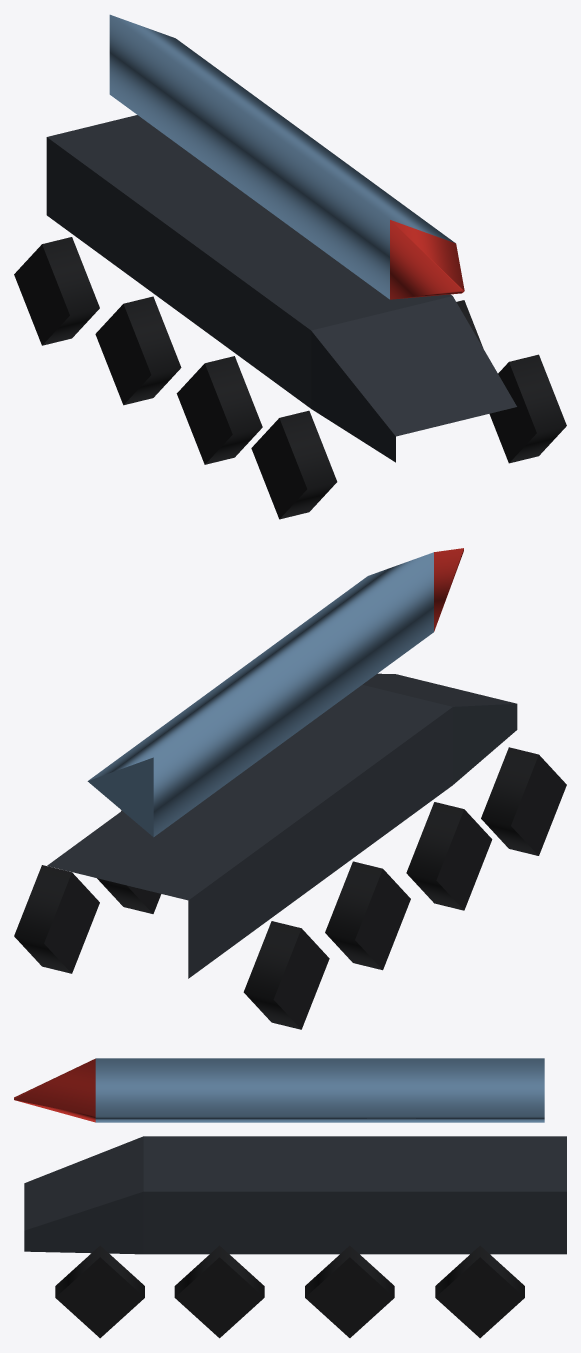
The model's file is veh_ground_missile_carrier_a09_lod2.glb.
3 views of the same model, one above another, from view 1: azimuth 30°, elevation 25°; view 2: azimuth 150°, elevation 25°; view 3: azimuth 270°, elevation 25° (orthographic). The views are drawn at different scales.
Visible parts, largest first — view 1: body, launcher, wheel_2, wheel_0, wheel_4, wheel_6, wheel_7; view 2: body, launcher, wheel_4, wheel_6, wheel_0, wheel_2, wheel_1, wheel_3; view 3: body, launcher, wheel_5, wheel_1, wheel_3, wheel_7.
Boxes of the visible parts, x1,y1,x2,y2 form: body: (46,115,516,462); launcher: (109,14,464,299); wheel_2: (95,296,181,405); wheel_0: (14,237,99,345); wheel_4: (176,356,262,464); wheel_6: (251,410,337,519); wheel_7: (489,354,566,463); body: (47,673,517,978); launcher: (87,548,463,837); wheel_4: (406,802,492,910); wheel_6: (481,747,566,855); wheel_0: (243,921,329,1029); wheel_2: (325,861,410,970); wheel_1: (14,865,99,973); wheel_3: (97,810,161,913); body: (24,1136,566,1254); launcher: (14,1058,544,1122); wheel_5: (174,1245,264,1338); wheel_1: (435,1245,524,1338); wheel_3: (305,1245,394,1337); wheel_7: (55,1245,144,1338).
Size of the model in its own units: 2.94 by 2.98 by 6.78.
